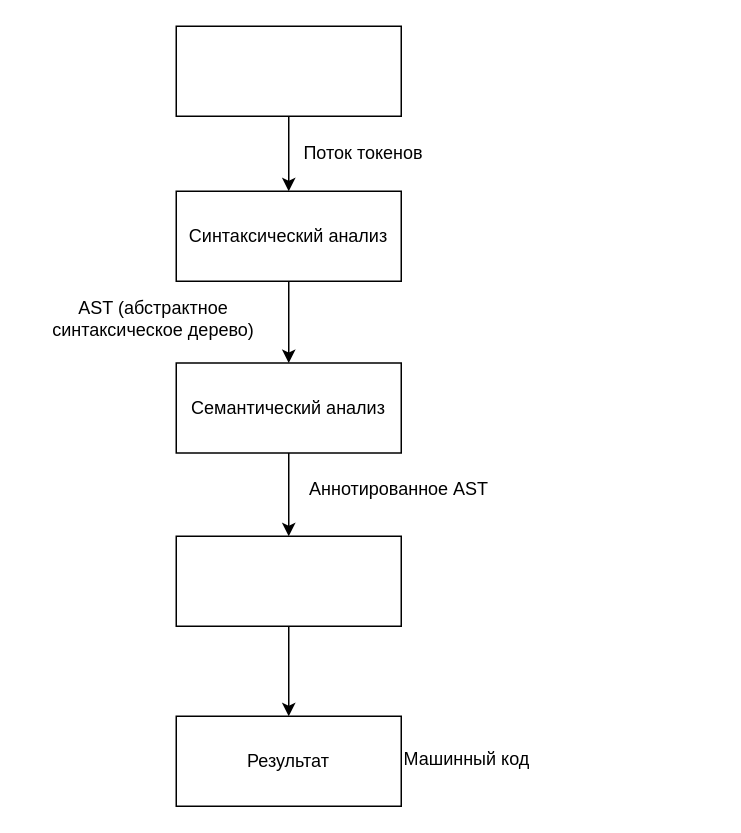
Some shapes in this 741 by 833 pixel diagram are drawn without their labels. The shapes that lost their labels are listed below. From the top down, each one's box as (x1, y1, x2, y2) in pixels, then its label:
(175, 25, 401, 116): Лексический анализ
(175, 535, 401, 626): Генерация машинного кода
